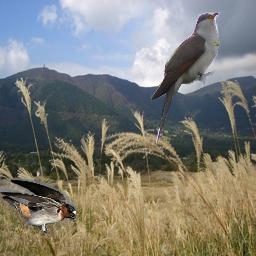Cuckoo: (150, 12, 220, 145)
Swallow: (0, 179, 77, 237)
